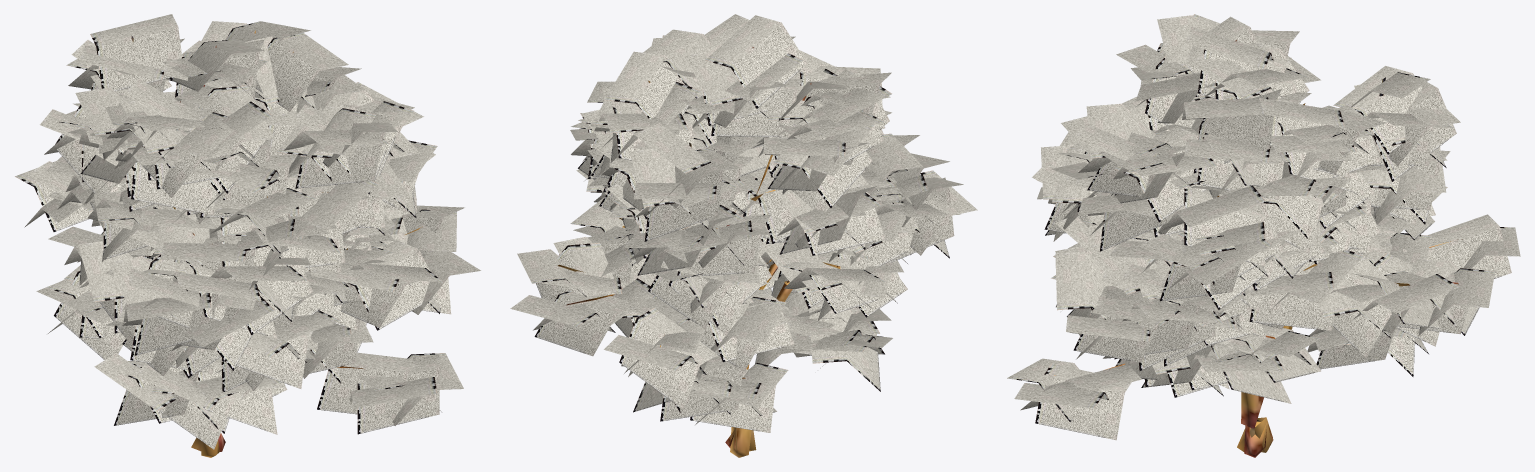
Rendered from tree_6.glb.
3 views of the same model, side by side, from view 1: azimuth 30°, elevation 25°; view 2: azimuth 150°, elevation 25°; view 3: azimuth 270°, elevation 25° (orthographic). The views are drawn at different scales.
Visible parts, largest first — view 1: Walnut_L; view 2: Walnut_L; view 3: Walnut_L.
Boxes of the visible parts, <box> form: Walnut_L: <box>15,14,480,457</box>; Walnut_L: <box>510,14,977,457</box>; Walnut_L: <box>1007,14,1520,457</box>.
Bounding box in the file's own units: 12.66 × 14.07 × 15.48.
Materials: 1 (1 with a texture image).
